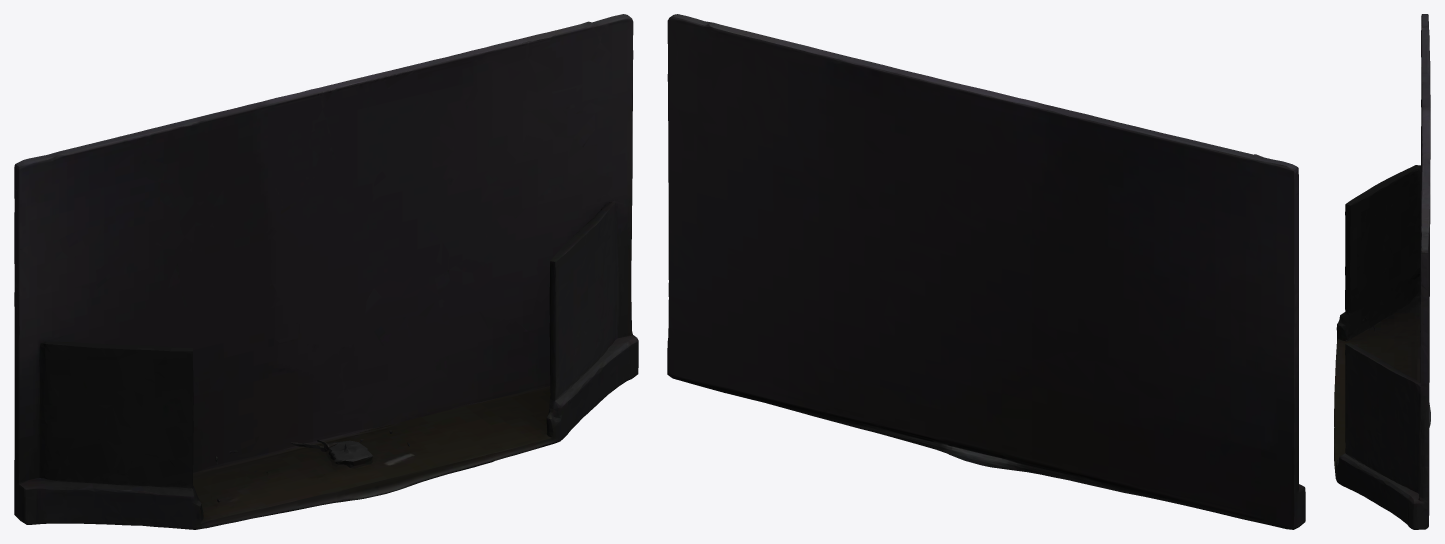
File: ast_2e0f65b42cfc.glb
3 views of the same model, side by side, from view 1: azimuth 30°, elevation 25°; view 2: azimuth 150°, elevation 25°; view 3: azimuth 270°, elevation 25° (orthographic). The views are drawn at different scales.
Visible parts, largest first — view 1: geometry_0; view 2: geometry_0; view 3: geometry_0.
Part boxes in pixels (x1=…): geometry_0: x1=14, y1=14, x2=638, y2=529; geometry_0: x1=667, y1=14, x2=1305, y2=529; geometry_0: x1=1334, y1=14, x2=1430, y2=529.
Size of the model in its own units: 1 by 0.5687 by 0.1727.
Materials: 1 (1 with a texture image).
